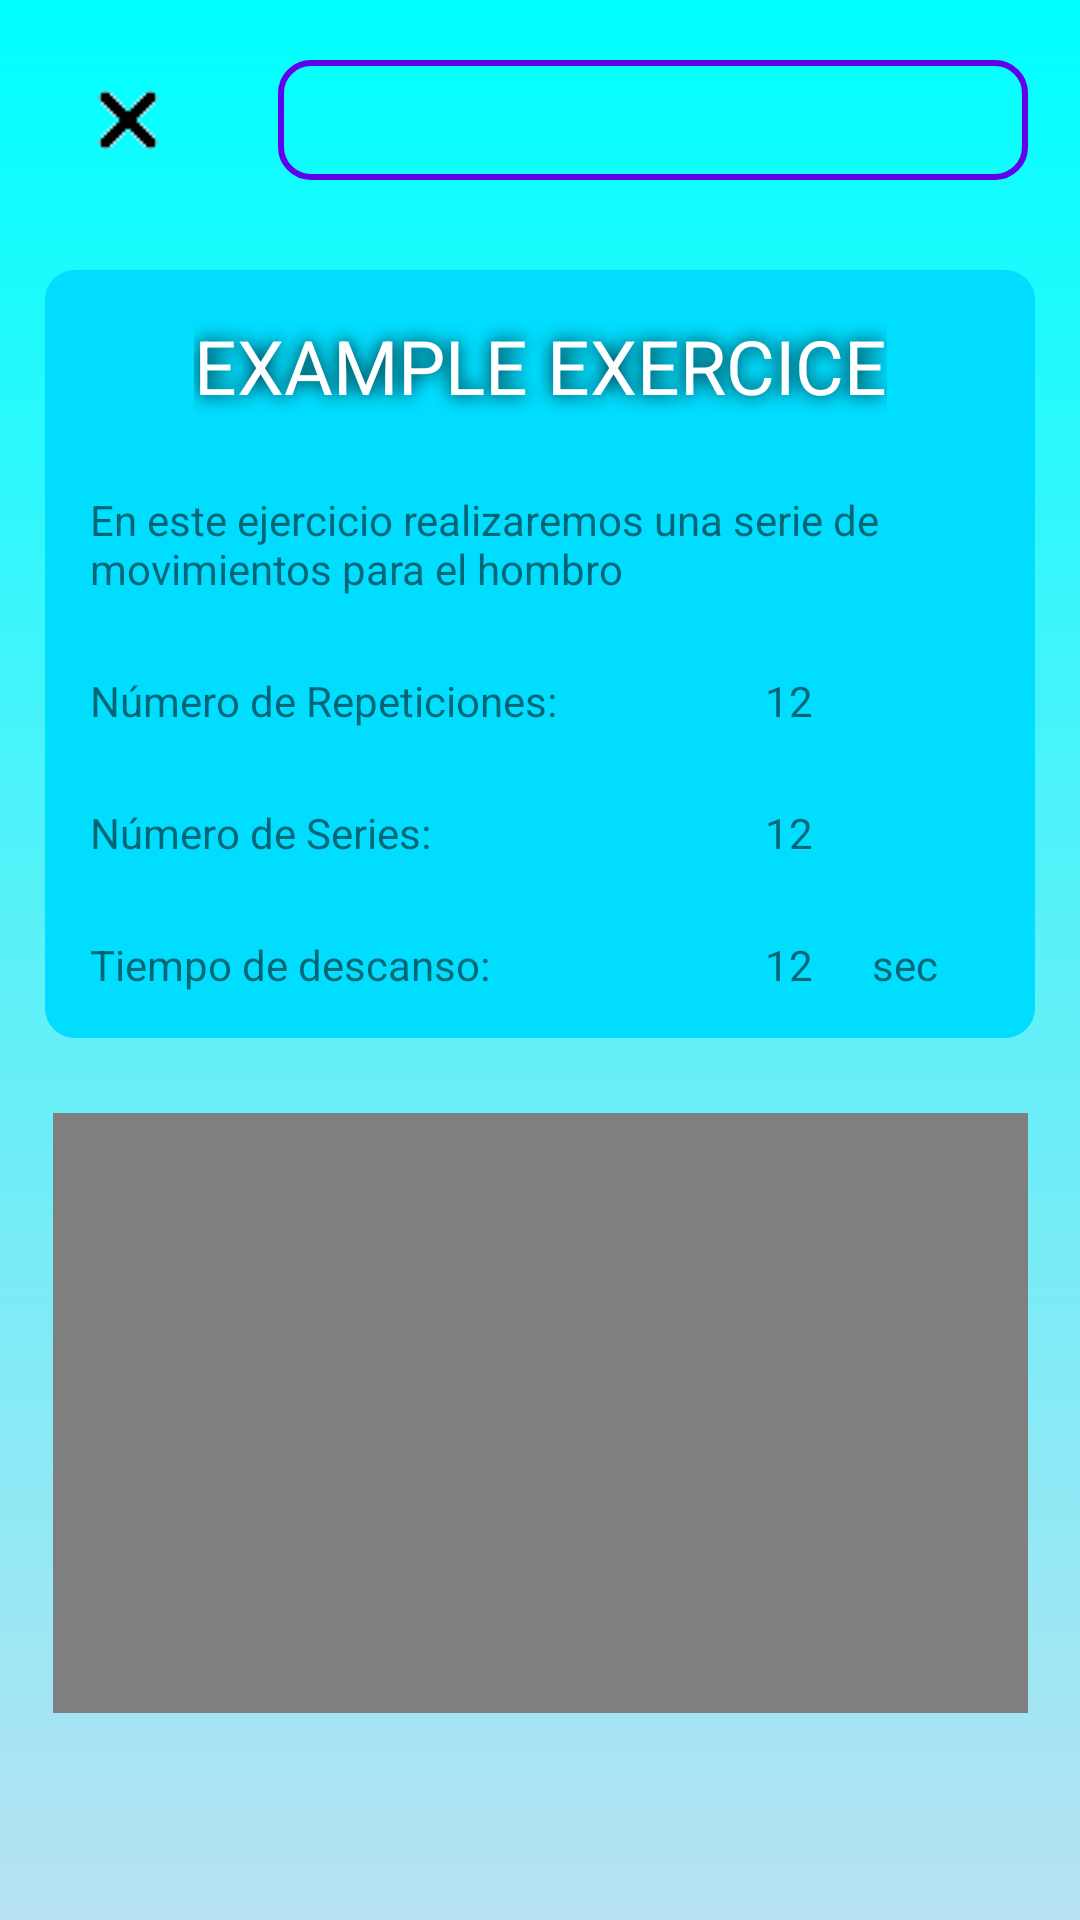

Where icons sit on this 1080w x 1920h app screen, as box(x1, y1, x2, y2):
return: box(97, 89, 159, 151)
